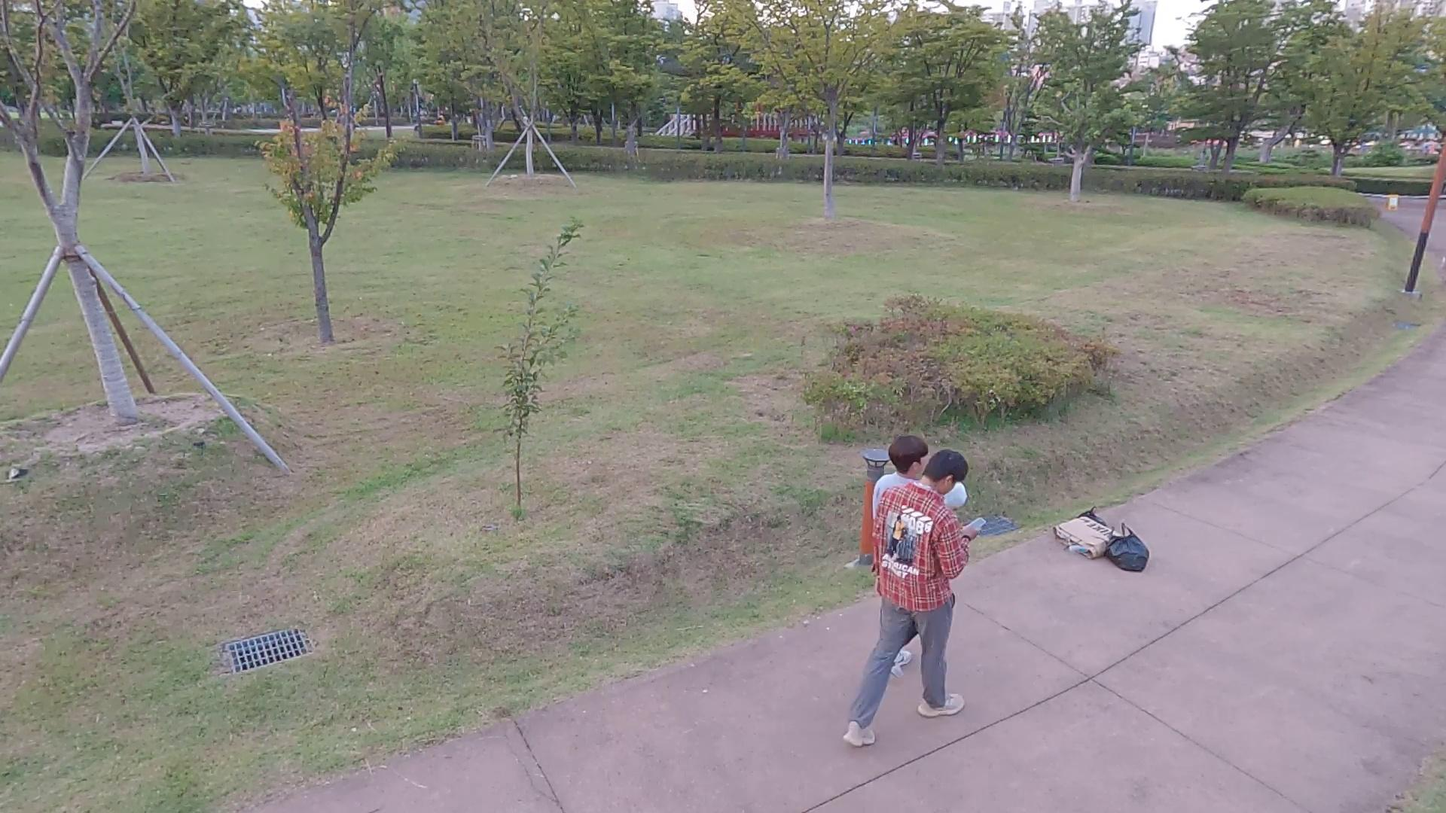person: (841, 445, 1018, 749), (868, 425, 973, 675)
trash: (1050, 507, 1116, 560), (1105, 519, 1150, 571)
